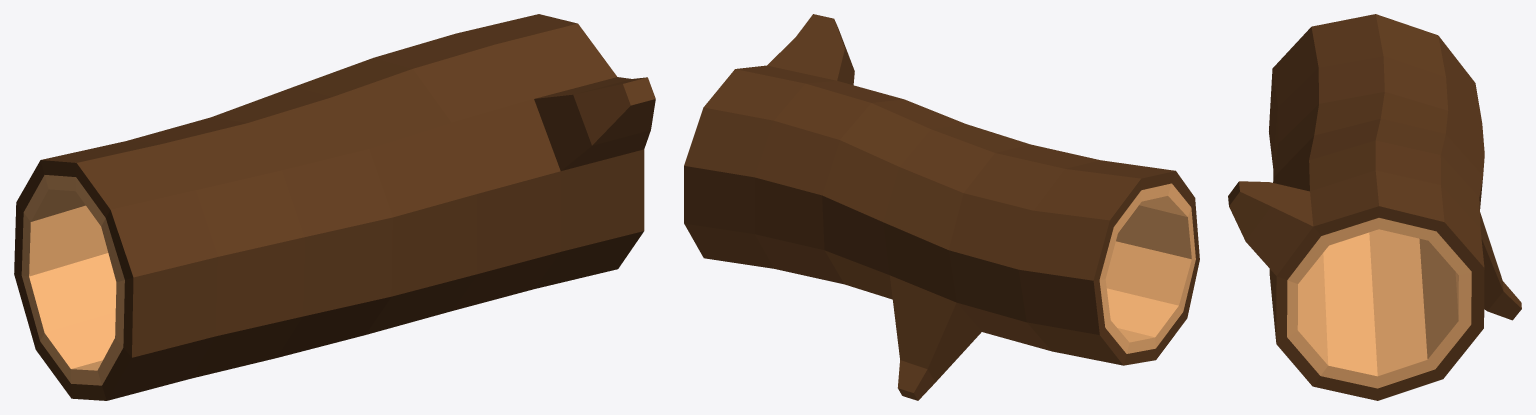
The model's file is Log 2.fbx.
The picture shows the model from 3 angles, left to right: view 1: azimuth 30°, elevation 25°; view 2: azimuth 150°, elevation 25°; view 3: azimuth 270°, elevation 25°; orthographic projection. The views are drawn at different scales.
Parts seen in each view (by area): view 1: Log 2; view 2: Log 2; view 3: Log 2.
Part boxes in pixels (<box>): Log 2: <box>14,14,655,400</box>; Log 2: <box>684,14,1199,400</box>; Log 2: <box>1228,14,1521,400</box>.
Size of the model in its own units: 2.16 by 1.15 by 1.26.
